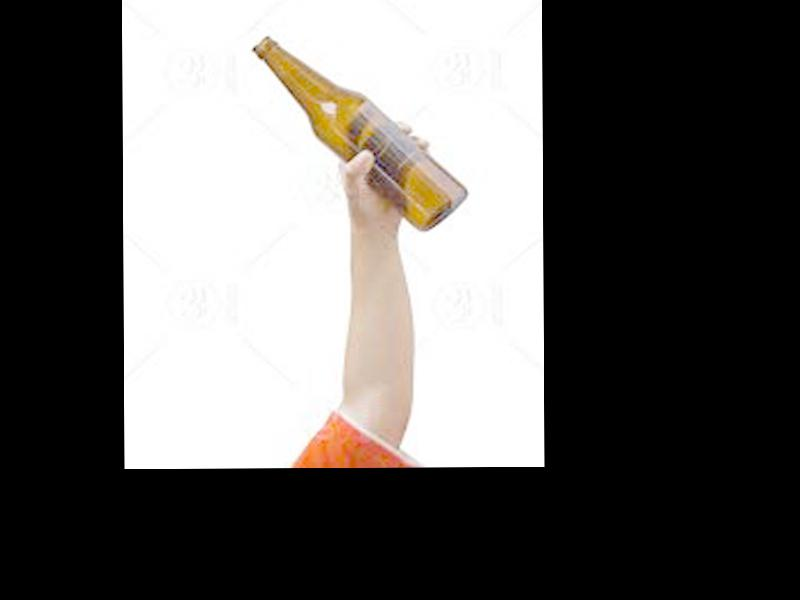Beer: (253, 35, 470, 232)
